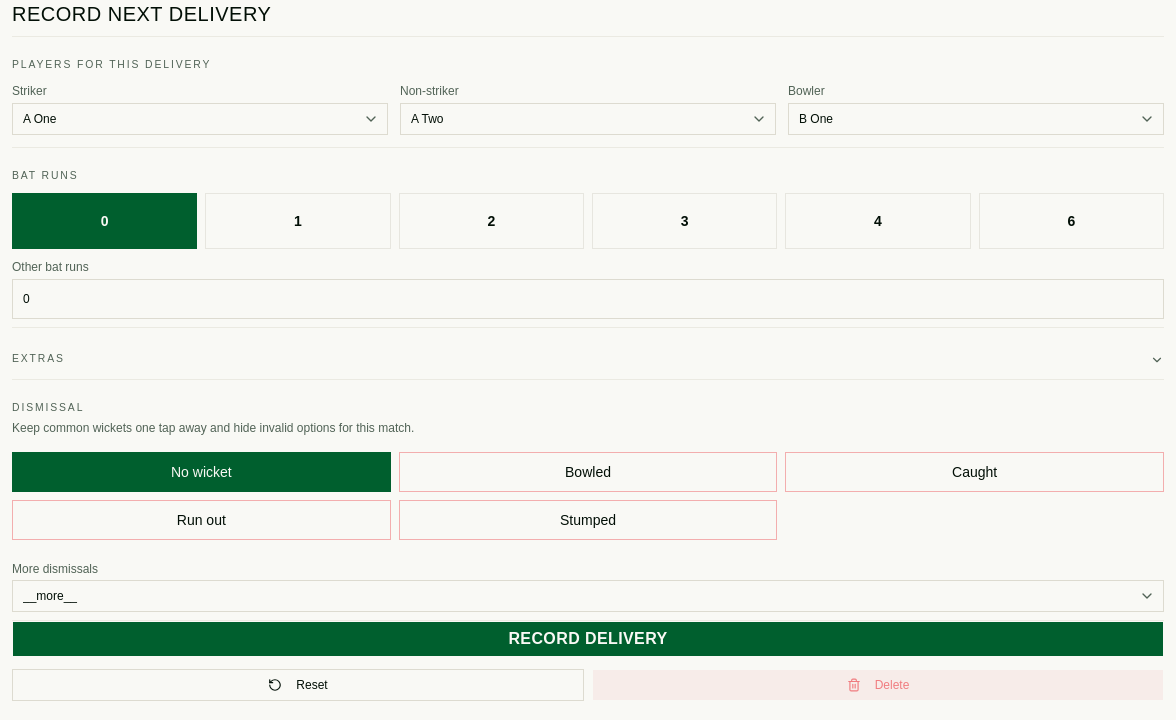
Test: ScoreABall › shows quick dismissal actions and reveals dependent fields after selection
The width and height of the screenshot is (1176, 720).
Expected: the button "Bowled" is shown, left=399, top=452, right=777, bottom=492
Click the button "Caught".
click(975, 472)  # box left=785, top=452, right=1164, bottom=492
(page scrolled)
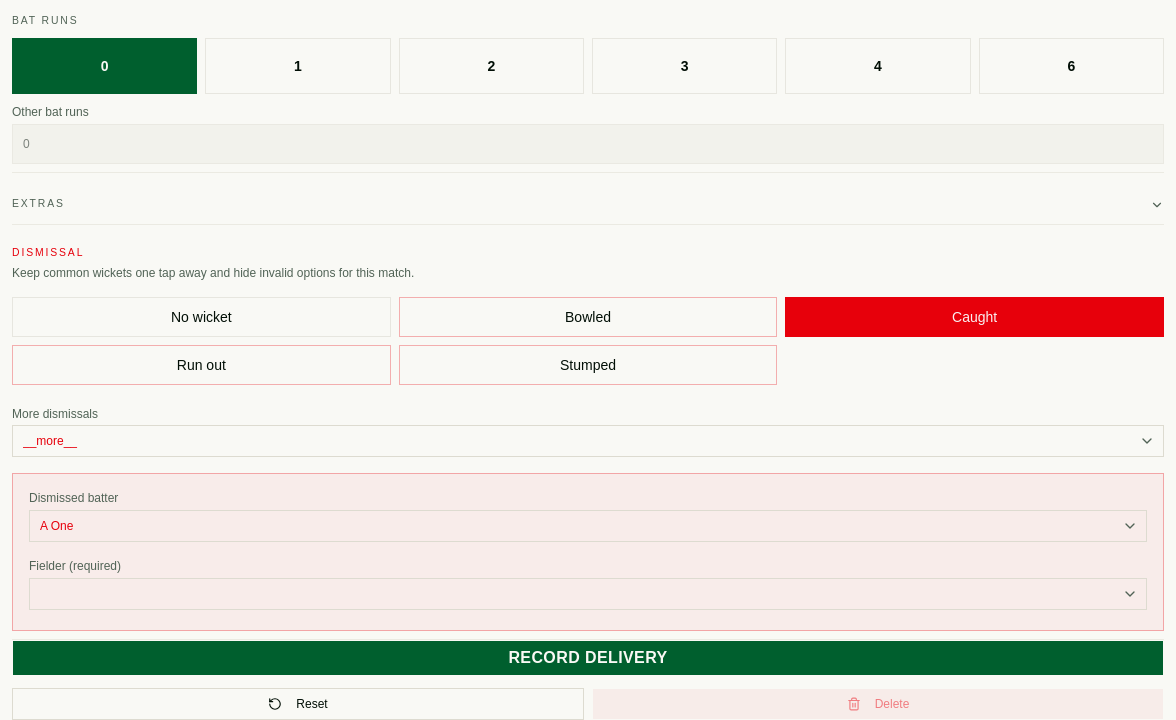
Expected: the text "Dismissed batter" is shown, left=29, top=491, right=118, bottom=505
Expected: the text "Fielder (required)" is shown, left=29, top=559, right=121, bottom=573
